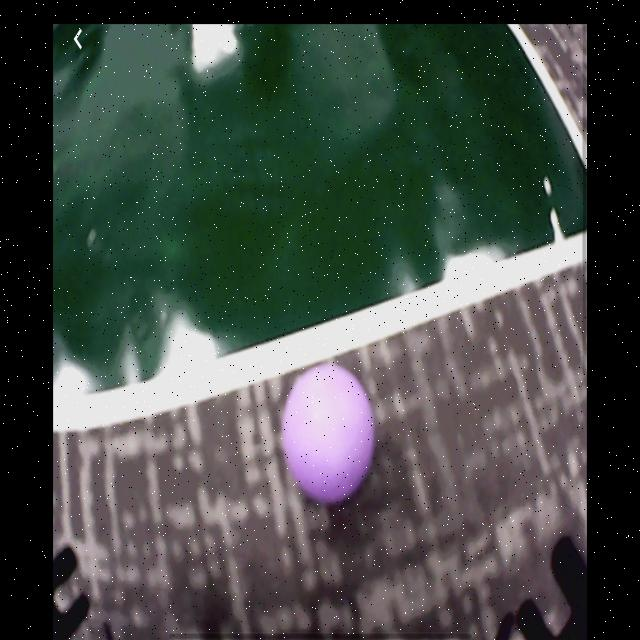ball: (280, 366, 375, 504)
